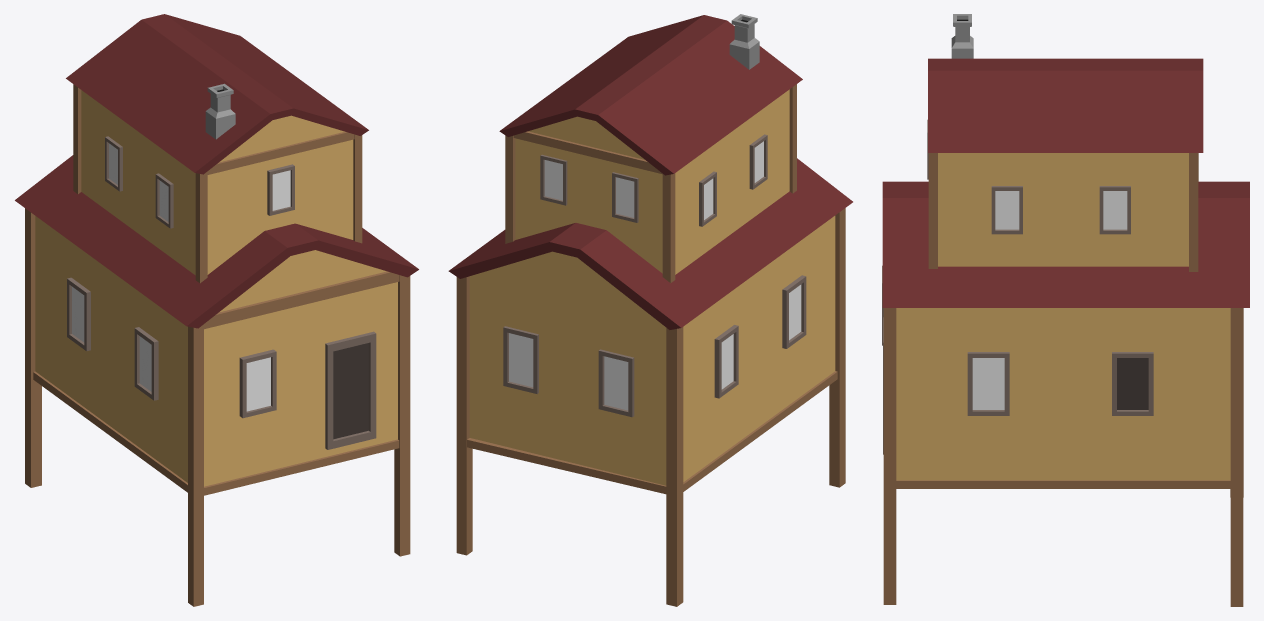
Rendered from M_House_Building_7.fbx.
3 renders of one model, left to right at view 1: azimuth 30°, elevation 25°; view 2: azimuth 150°, elevation 25°; view 3: azimuth 270°, elevation 25°, orthographic. The views are drawn at different scales.
Visible parts, largest first — view 1: M_House_Building_7; view 2: M_House_Building_7; view 3: M_House_Building_7.
Boxes of the visible parts, bbox=[...] form: M_House_Building_7: bbox=[15, 14, 418, 606]; M_House_Building_7: bbox=[448, 14, 852, 606]; M_House_Building_7: bbox=[882, 14, 1249, 606].
Bounding box in the file's own units: 446 × 870 × 572.
